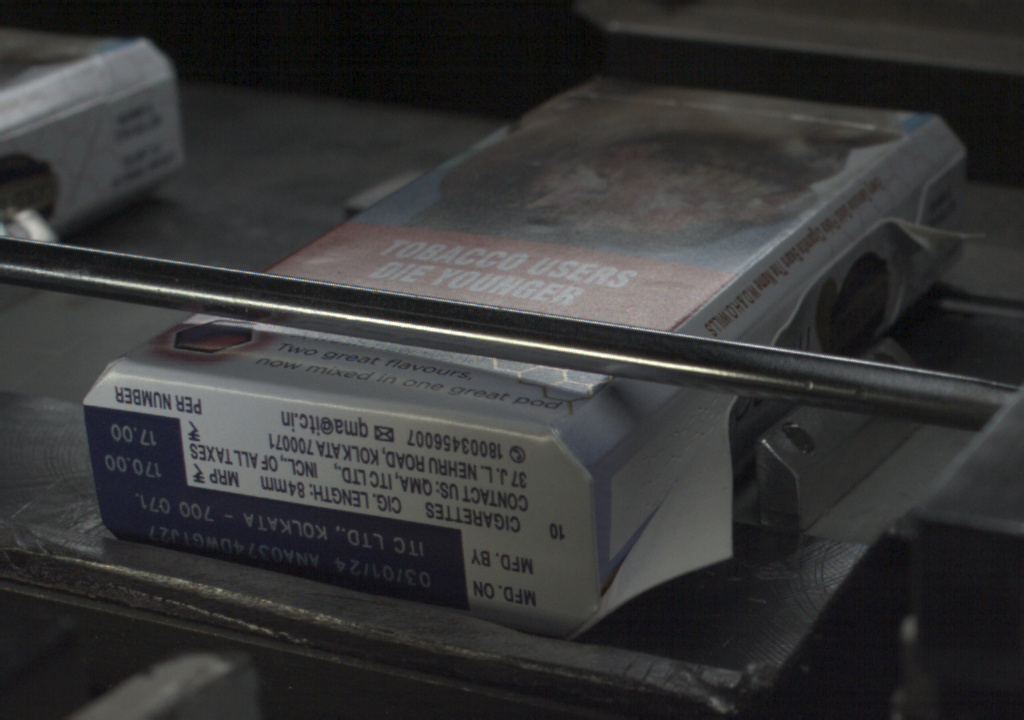g_bottom: (85, 366, 589, 646)
g_label: (96, 488, 469, 610)
g_lmiter: (824, 229, 873, 275)
g_miter: (920, 143, 969, 201)
ng_lmiter: (596, 396, 735, 589), (885, 216, 984, 258)
price: (89, 410, 189, 486)
